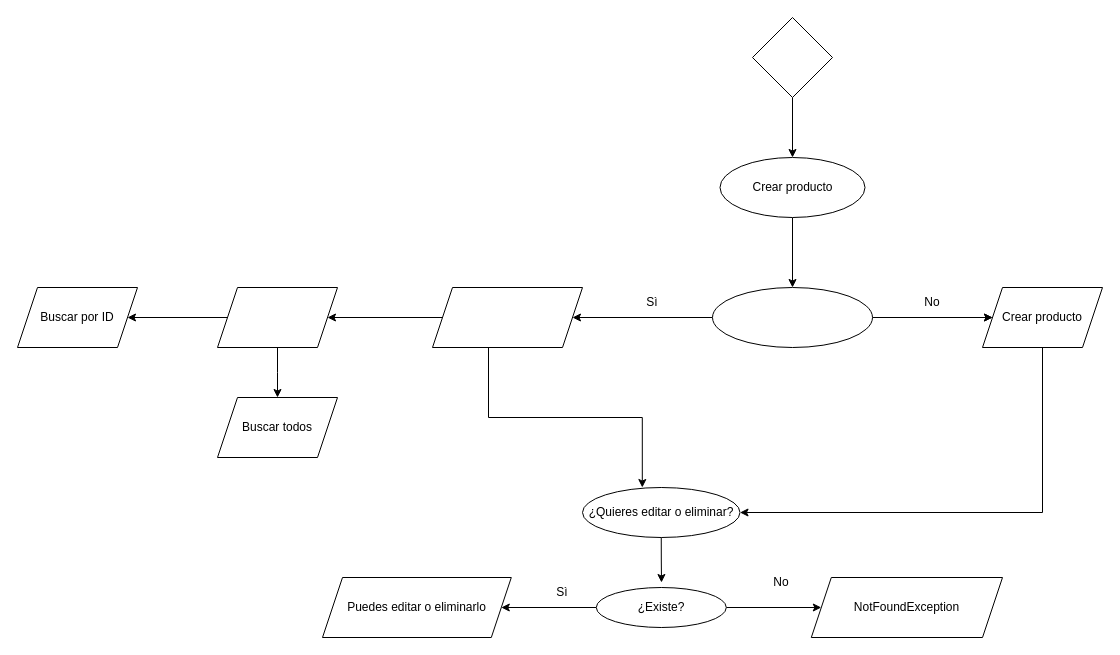
Some shapes in this 1120 by 655 pixel diagram are drawn without their labels. Each missing label, with the centre of its shape:
Buscar prodcuto: pixel 277 317
El producto ya existe. Agregar a inventario: pixel 507 317
Productos: pixel 792 57
¿Existe el producto?: pixel 792 317
